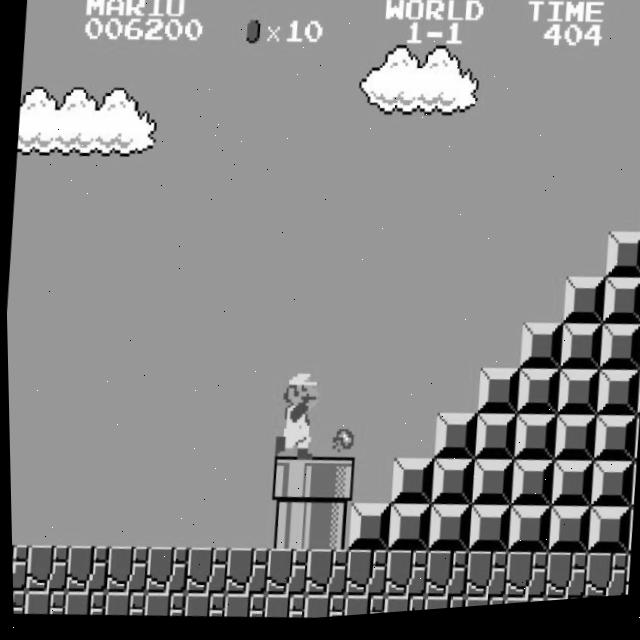14- pipe: (264, 504, 310, 555), (304, 505, 350, 556)
15- pipe_head: (267, 458, 313, 510), (307, 459, 353, 511)
17- undestructible_block: (102, 545, 148, 597), (141, 546, 187, 598), (181, 547, 227, 599), (301, 551, 347, 603), (341, 552, 387, 604), (221, 549, 267, 600), (261, 550, 307, 601), (461, 556, 507, 607), (500, 557, 546, 608), (540, 558, 586, 609), (381, 553, 426, 605), (421, 554, 466, 606), (22, 543, 67, 594), (62, 544, 107, 595), (580, 559, 626, 607), (20, 588, 64, 617), (180, 593, 224, 622), (220, 594, 264, 623), (260, 595, 303, 624), (60, 590, 104, 618), (100, 591, 144, 619), (140, 592, 183, 620), (300, 597, 343, 623), (340, 597, 383, 621), (379, 599, 422, 619), (9, 541, 26, 591), (419, 600, 462, 616), (459, 601, 502, 614), (499, 602, 542, 612), (10, 587, 23, 614), (620, 561, 628, 604)
4- fire_mario: (268, 367, 320, 467)
5- fireball: (329, 429, 352, 458)
9- hard_block: (384, 507, 430, 559), (427, 463, 473, 515), (424, 508, 470, 560), (467, 464, 513, 516), (464, 509, 510, 561), (513, 373, 559, 425), (507, 465, 553, 517), (547, 466, 593, 518), (587, 467, 633, 519), (344, 506, 390, 557), (387, 462, 433, 513), (430, 417, 476, 468), (470, 418, 516, 469), (516, 328, 562, 379), (504, 511, 550, 562), (556, 329, 602, 380), (553, 375, 599, 426), (593, 376, 639, 427), (590, 422, 636, 473), (474, 372, 519, 424), (560, 283, 605, 335), (584, 513, 629, 565), (510, 420, 556, 470), (550, 421, 596, 471), (544, 512, 589, 563), (596, 331, 640, 381), (600, 284, 640, 336), (603, 239, 640, 290), (630, 424, 638, 470), (627, 471, 635, 516), (633, 379, 640, 425), (624, 516, 631, 562), (636, 332, 640, 379), (640, 288, 640, 333)
